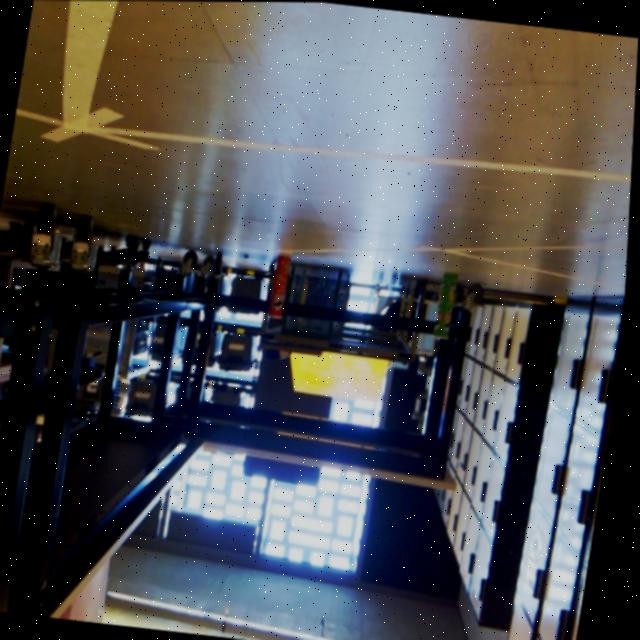greenpringles: (416, 254, 474, 355)
redpringles: (259, 236, 302, 323)
